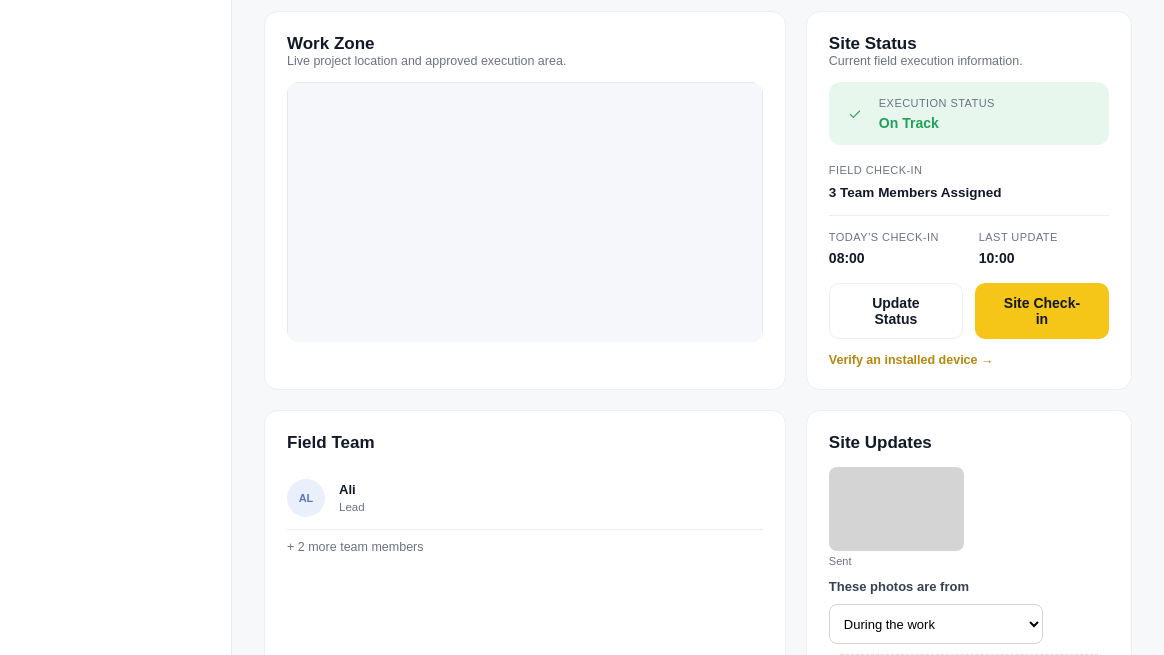
Scenario: FieldExecution - حالة الموقع والحضور › Verify an installed device يروح لصفحة التحقق
(page scrolled)
Click the button "Verify an installed device →" at (911, 360), box [829, 353, 994, 367]
(page scrolled)
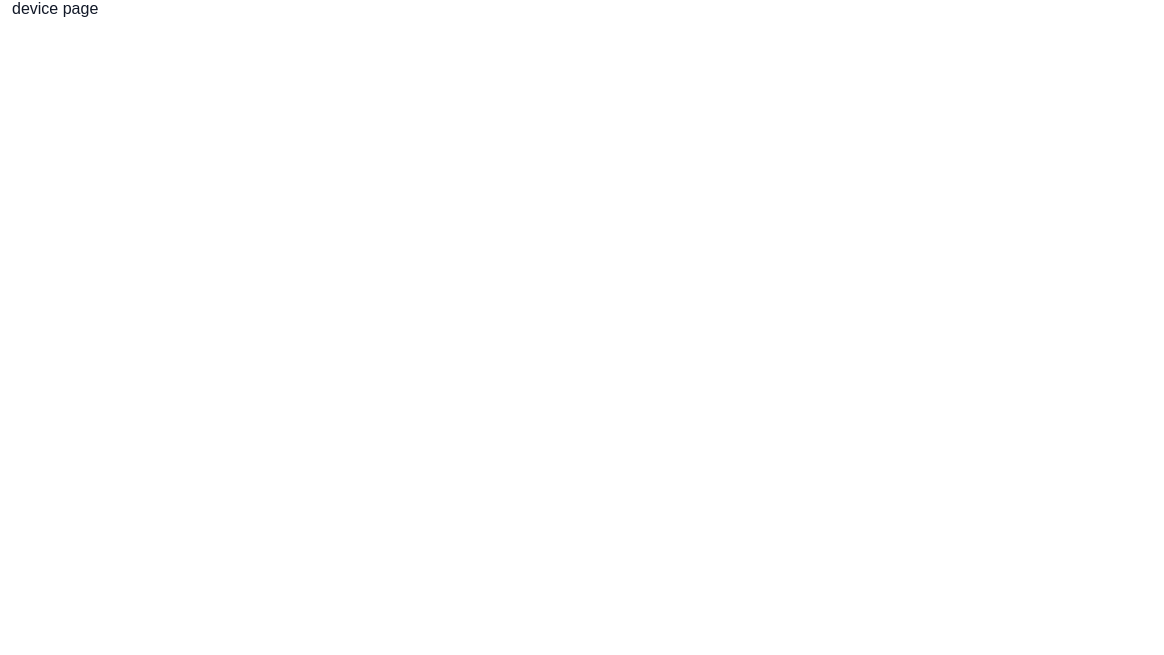
Expected: the text "device page" is shown, [12, 0, 98, 17]
